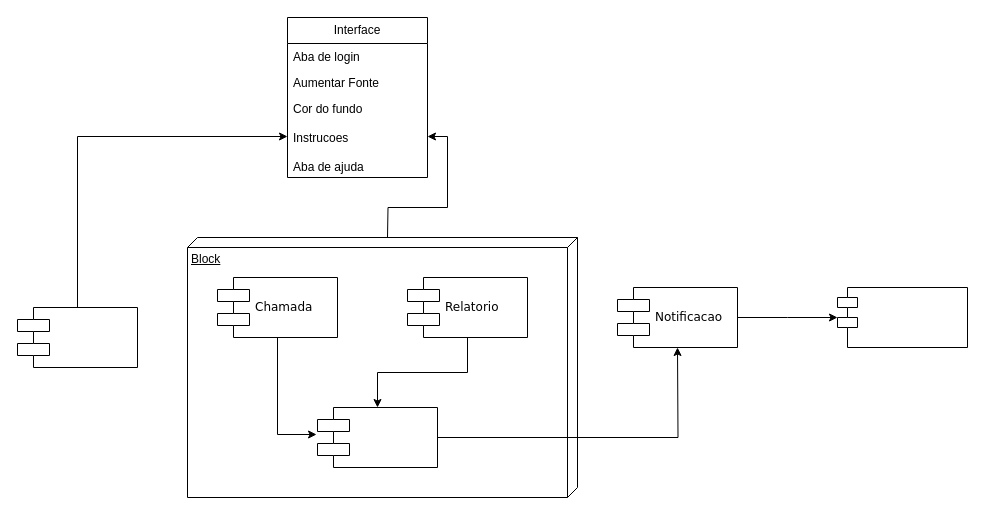
The diagram is 985 pixels wide and 515 high, and some of its shapes have lost their labels. Here are the shapes that lost their labels. From the top down, the centre of each, then its label:
[77,337]: Autenticacao
[902,317]: Pais Responsaveis
[377,437]: Banco de Dados
